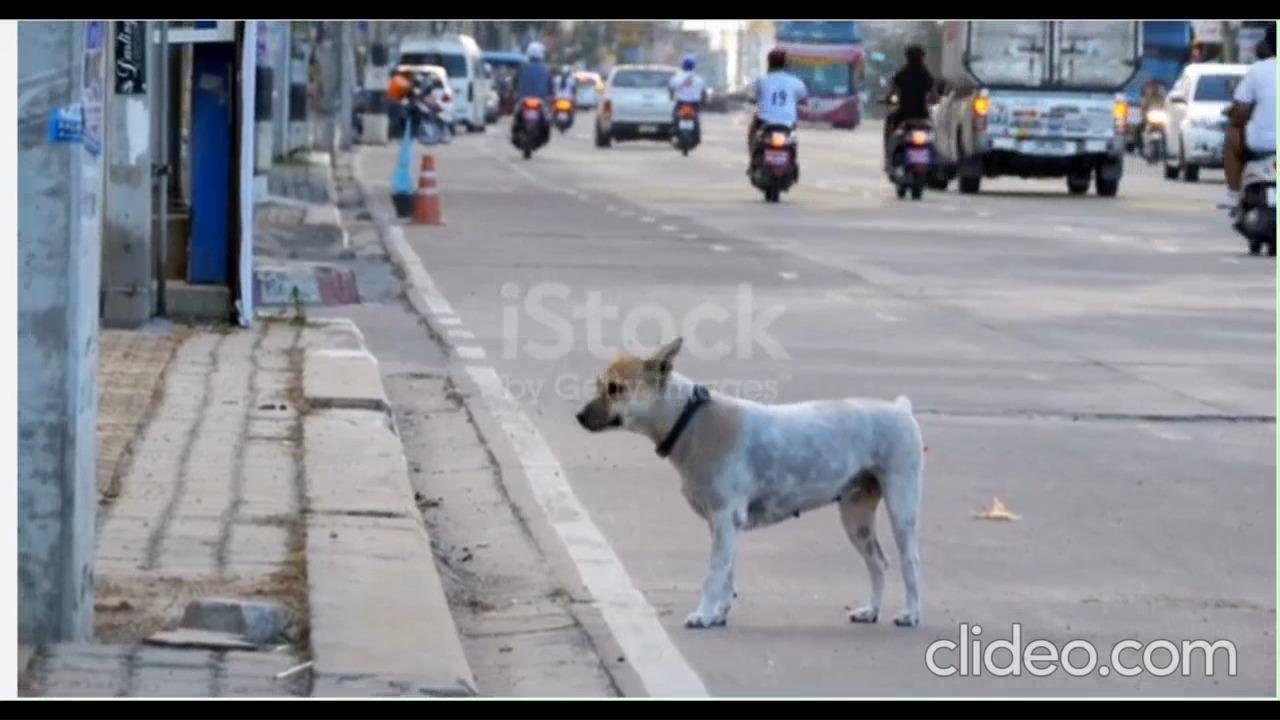dog: (577, 308, 935, 624)
